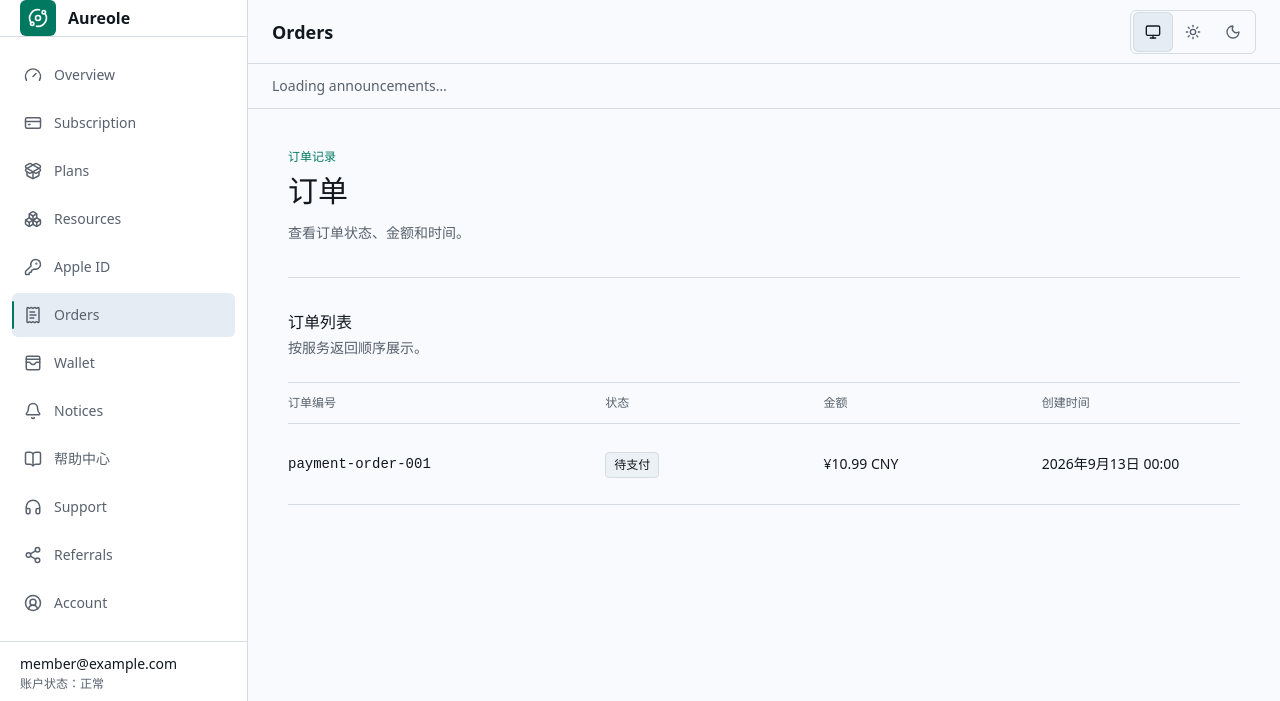
Test: Payment checkout flow › loads methods only after explicit Pay and shows Contract fee metadata
The image size is (1280, 701).
Click the button "payment-order-001 待支付 ¥10.99 CNY 2026年9月13日 00:00" at x=359, y=464, box x1=288 y1=424 x2=1240 y2=504
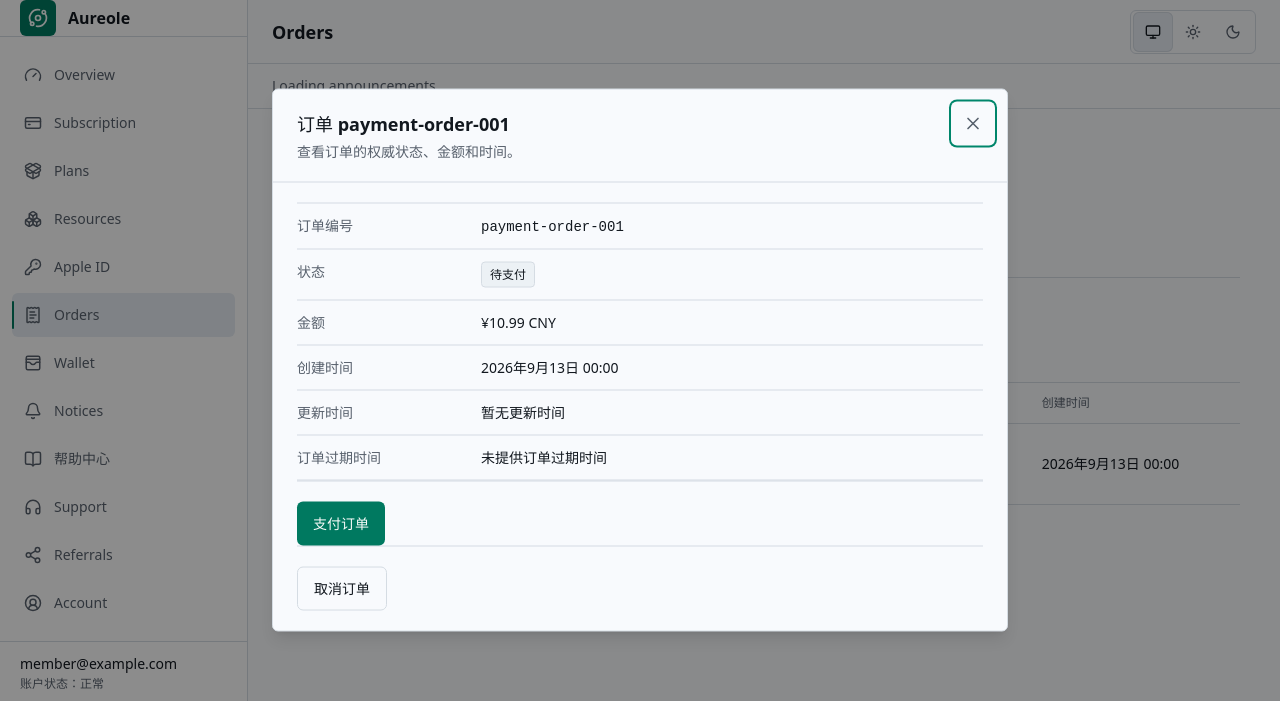
Now the button "支付订单" is shown
Now the button "取消订单" is enabled, box x1=297 y1=566 x2=387 y2=610
Click the button "支付订单" at x=341, y=524, box x1=297 y1=502 x2=385 y2=546
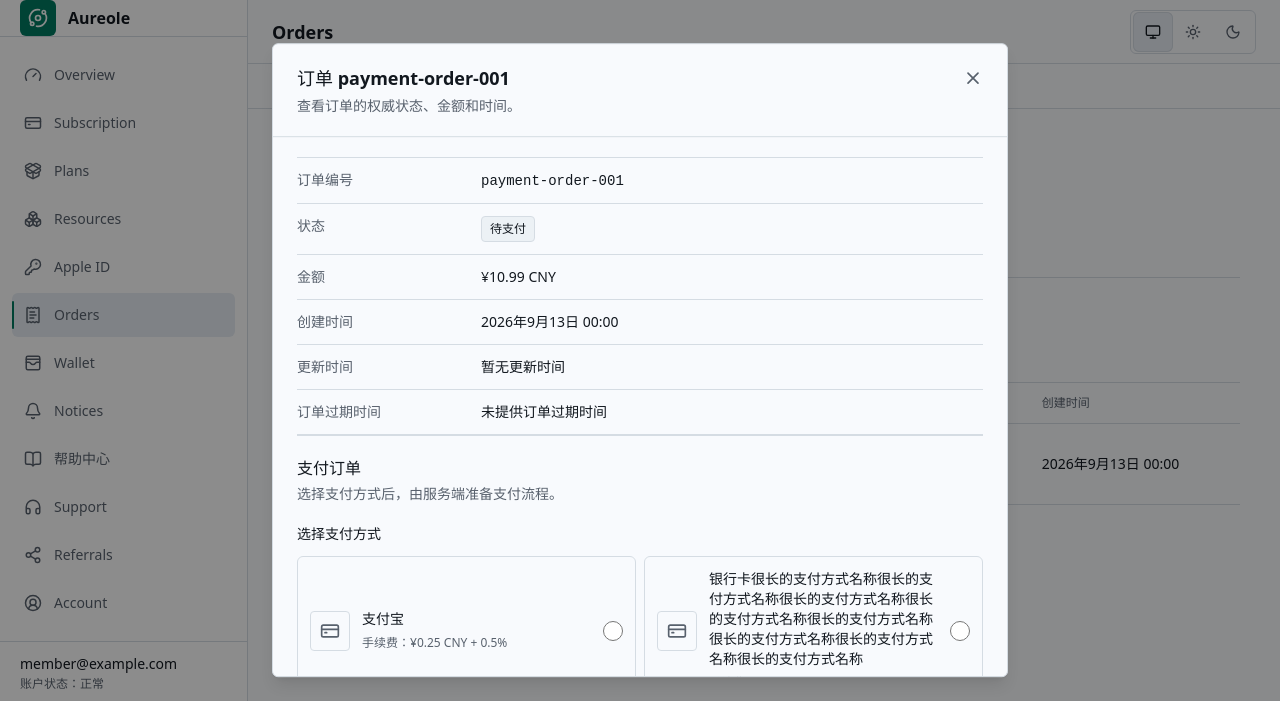
Now the text "支付宝" is shown, box x1=362 y1=609 x2=404 y2=628
Now the text "手续费：¥0.25 CNY + 0.5%" is shown, box x1=362 y1=634 x2=507 y2=651
Now the text "银行卡很长的支付方式名称" is shown, box x1=709 y1=569 x2=933 y2=668
